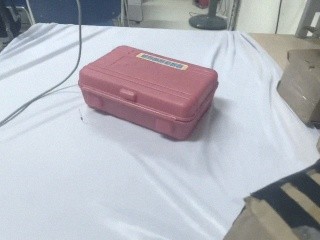box: (77, 41, 221, 145), (278, 48, 320, 126)
